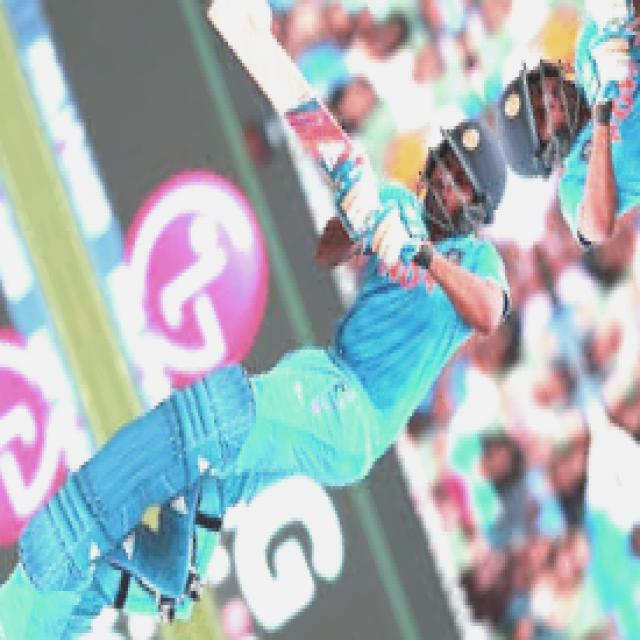toe: (196, 0, 224, 23)
